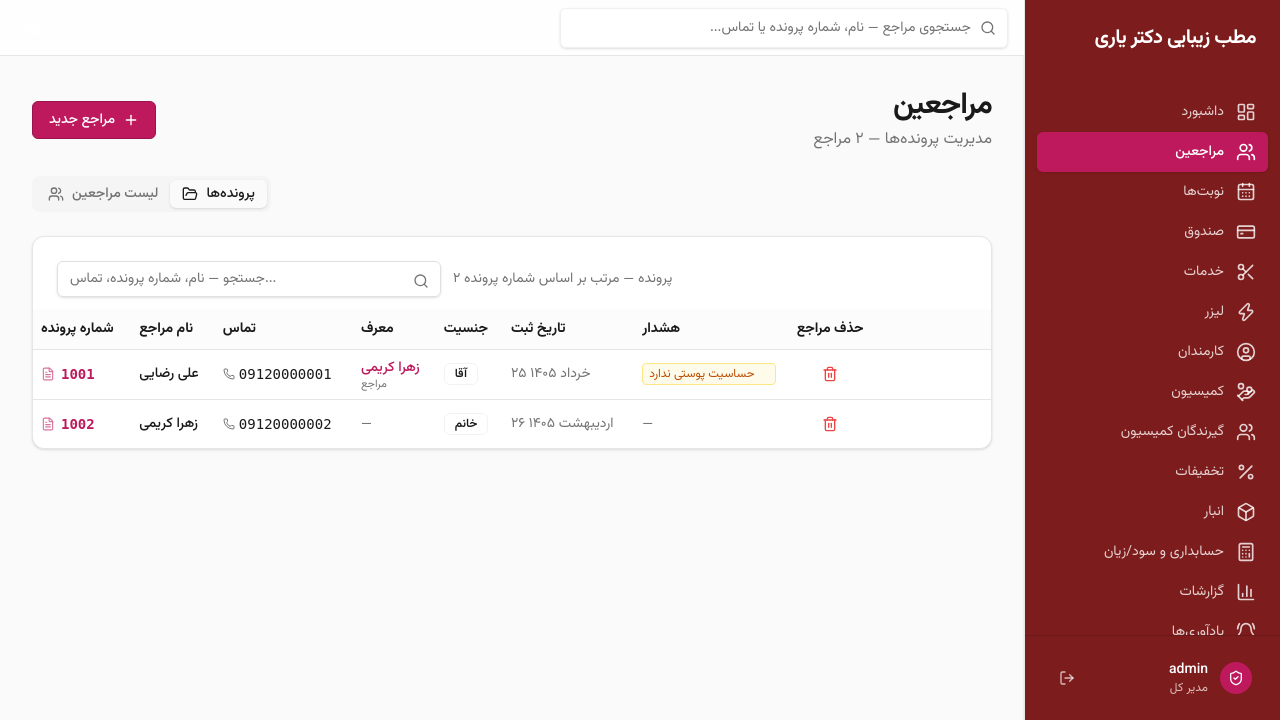
create dialogs survive a failed save (500) without crashing › patient create: shows an error toast and keeps the dialog open
Expected: the heading "مراجعین" is shown, [893, 82, 992, 129]
Click the button "مراجع جدید" at (94, 120), box [32, 101, 156, 139]
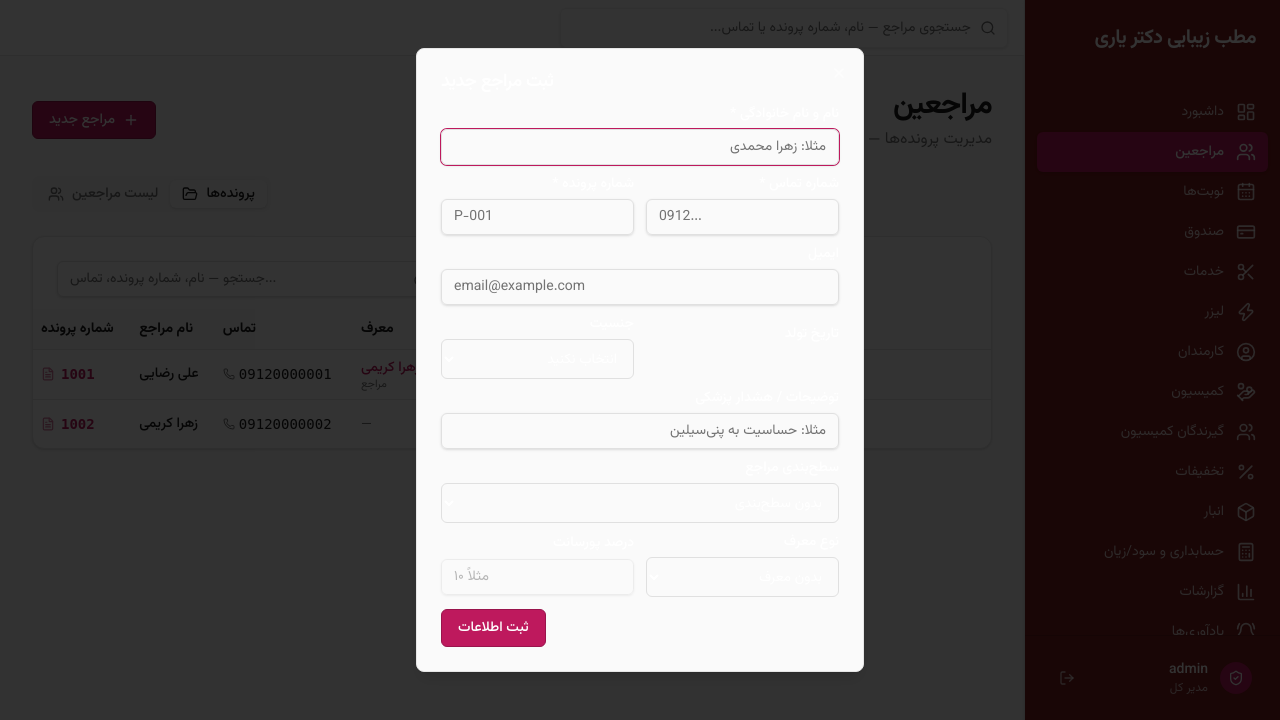
Type "تست مراجع" into the field labelled "نام و نام خانوادگی *" at (640, 147), box [441, 129, 839, 165]
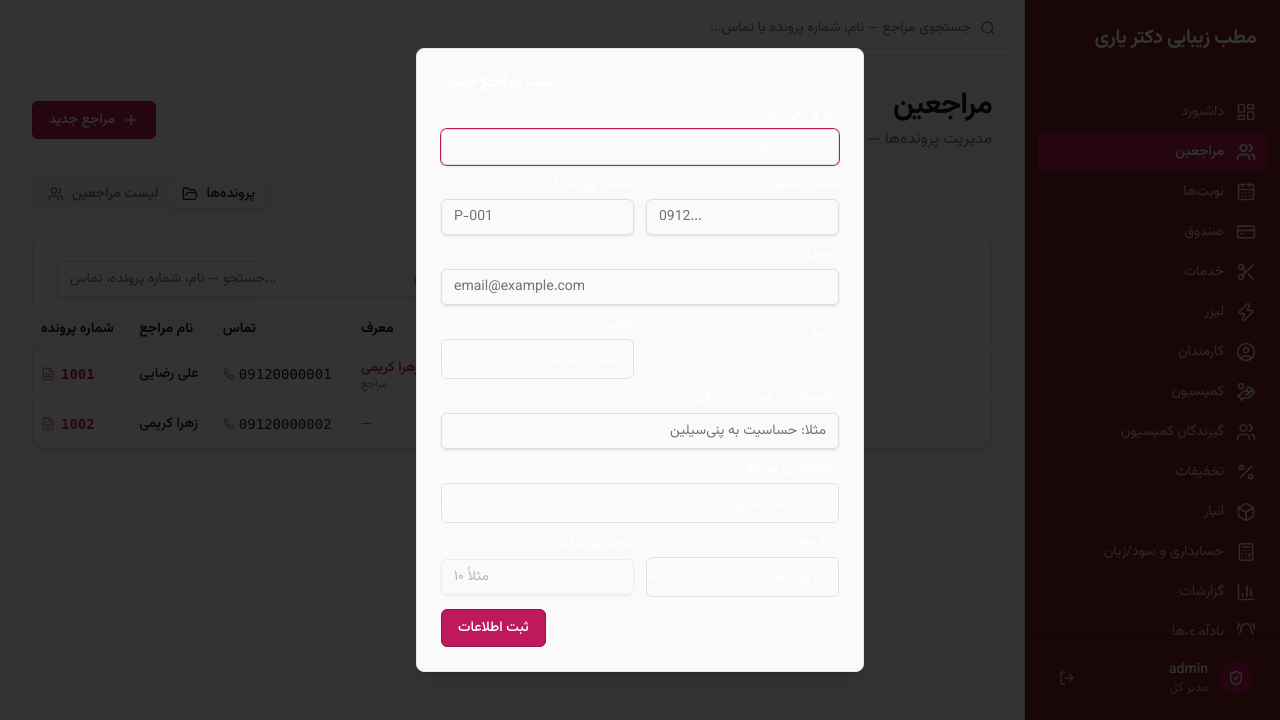
Type "09120009999" into the field labelled "شماره تماس *" at (742, 217), box [646, 199, 839, 235]
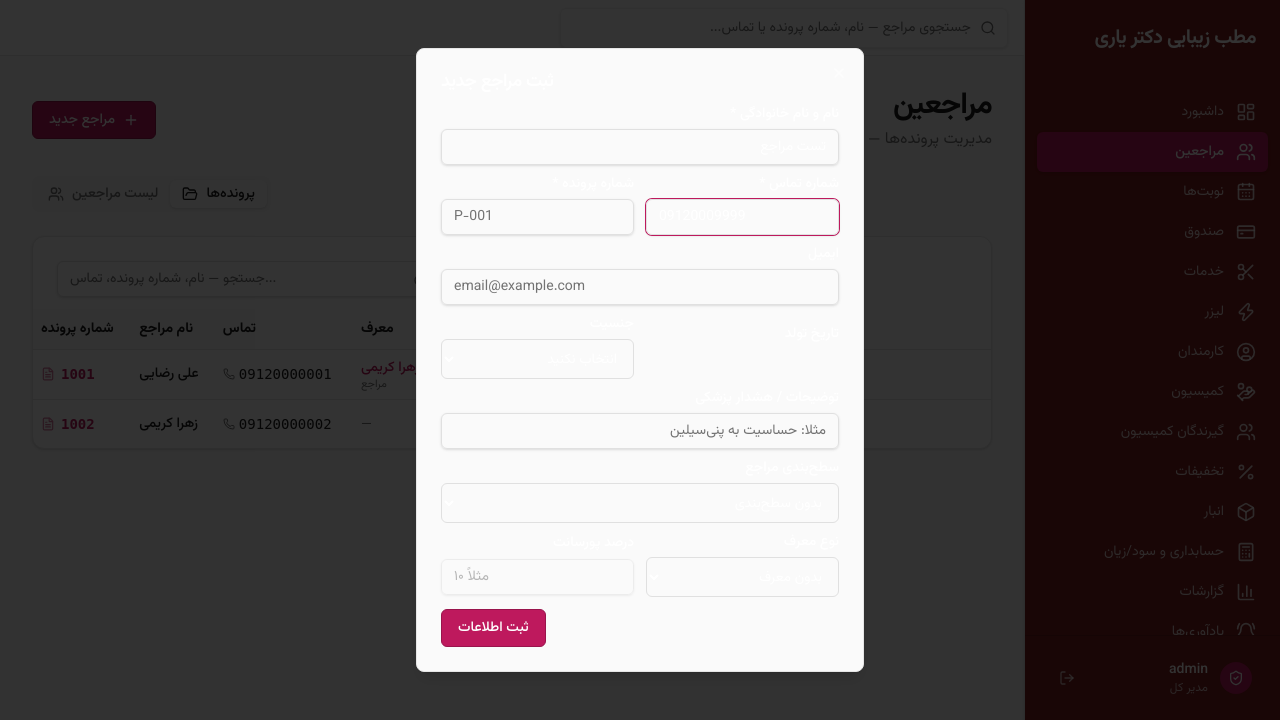
Type "P-999" into the field labelled "شماره پرونده *" at (538, 217), box [441, 199, 634, 235]
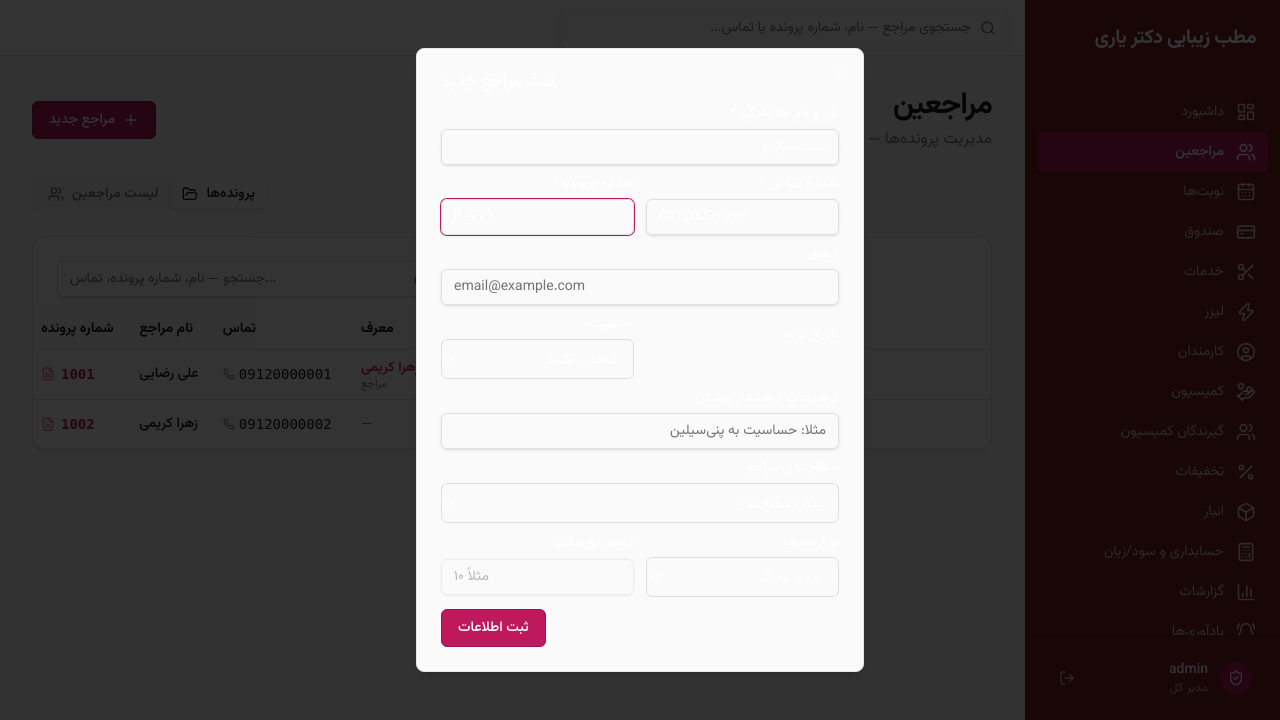
Click the button "ثبت اطلاعات" at (493, 628), box [441, 609, 546, 647]
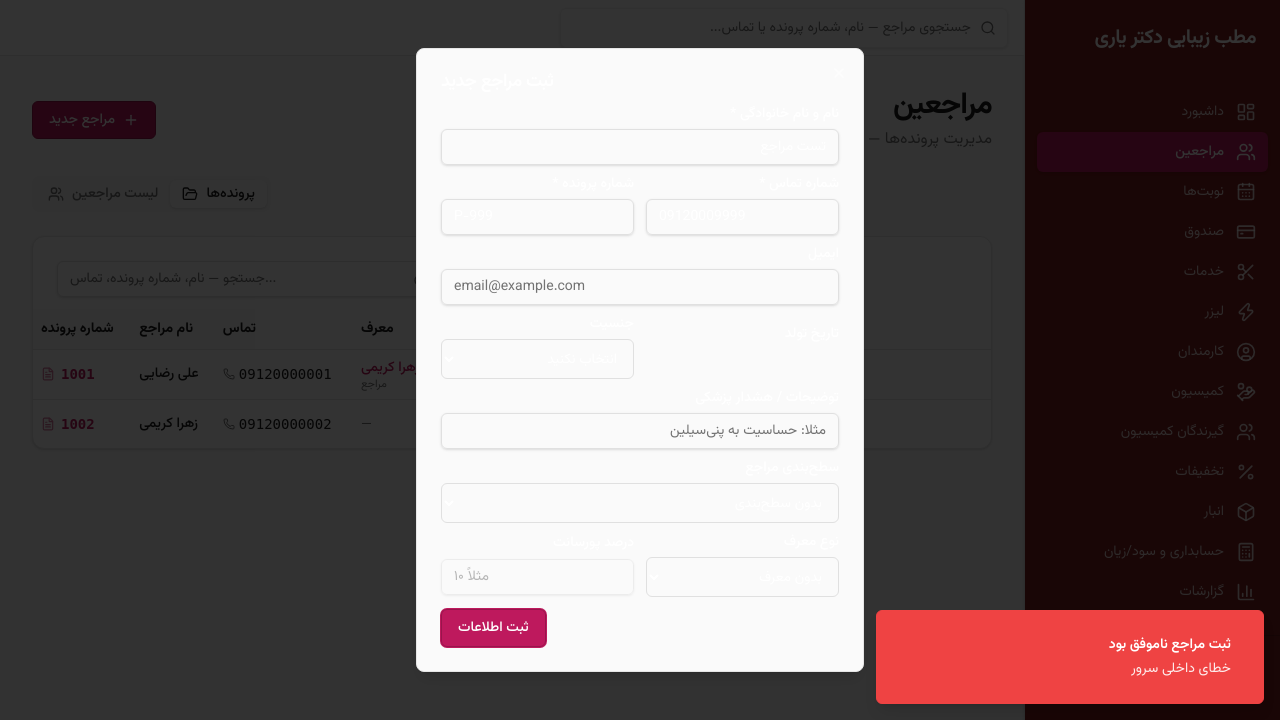
Expected: the dialog is shown, [416, 48, 864, 672]
Expected: the text "ثبت مراجع ناموفق بود" is shown, [1109, 635, 1231, 655]
